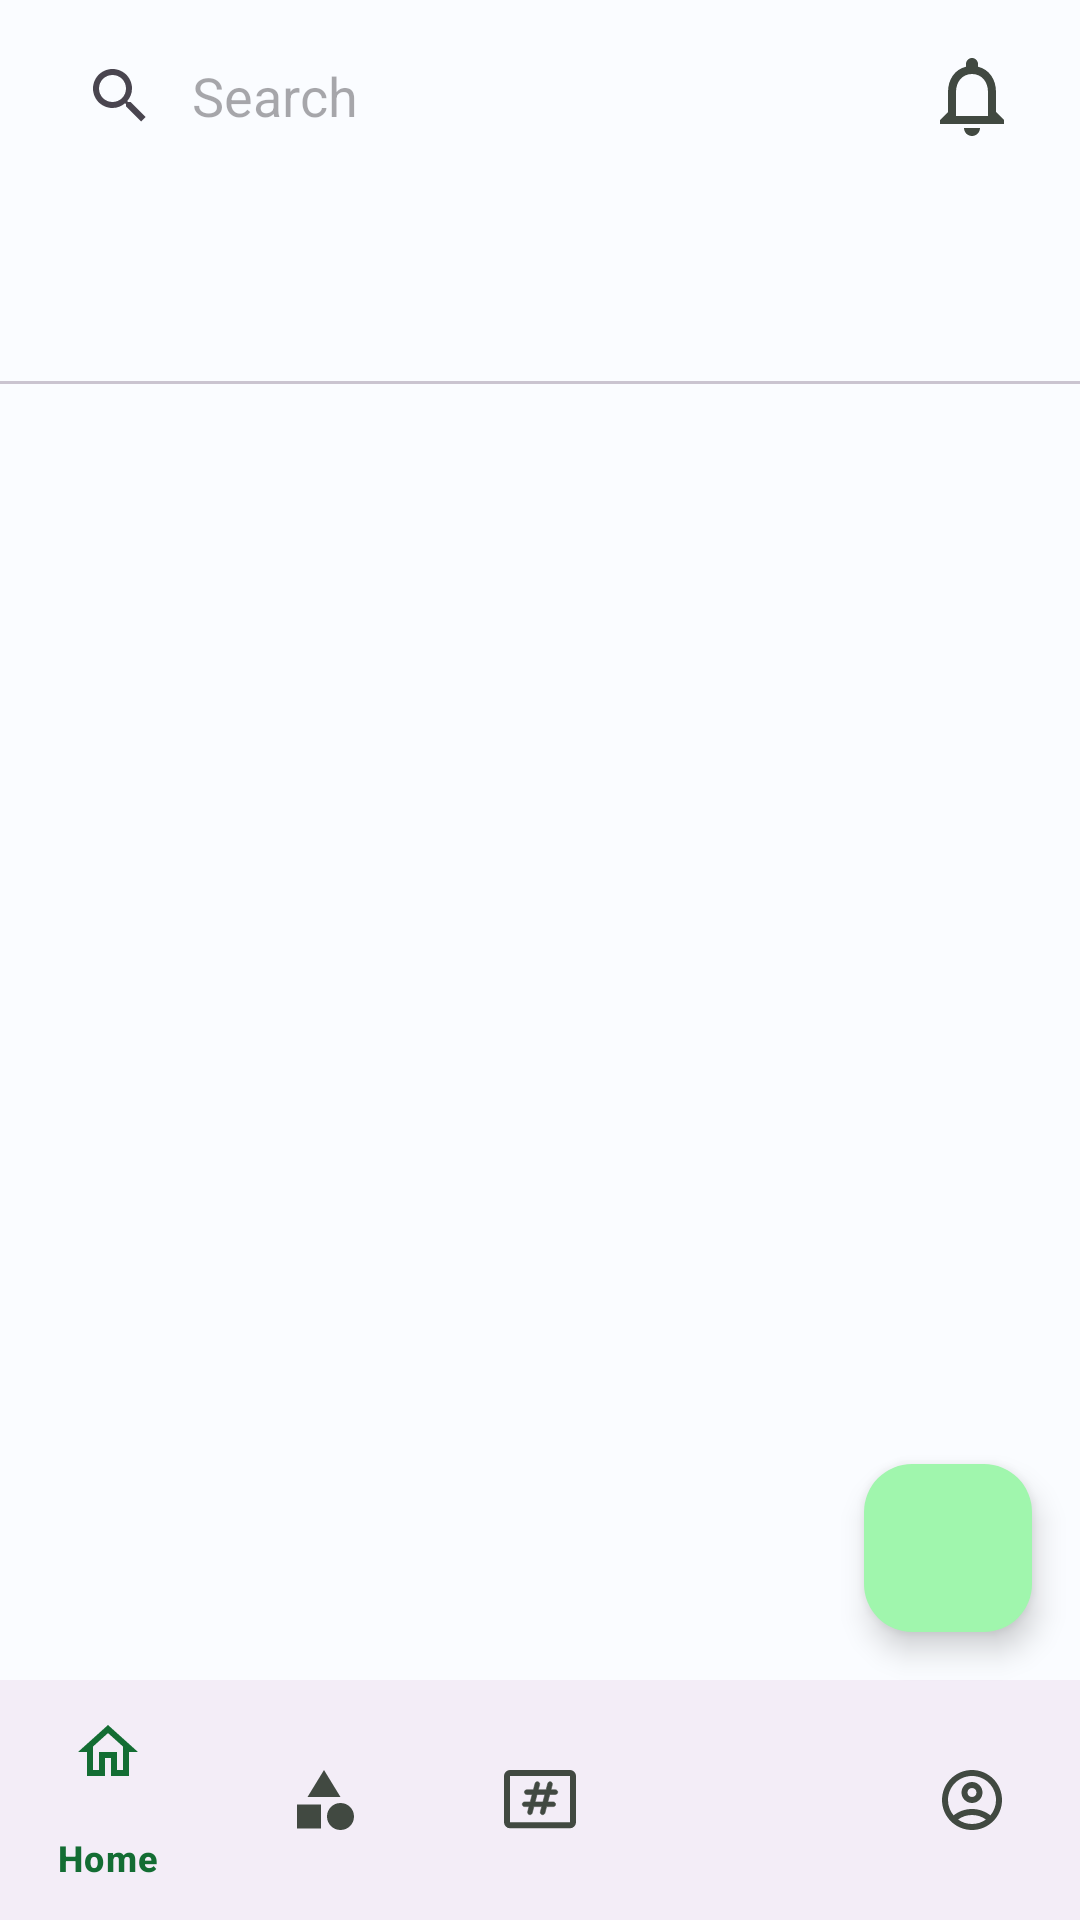

Icons on this 1080px×1920px Android screen, each with the point to tap as point (x, y):
notification: point (972, 97)
